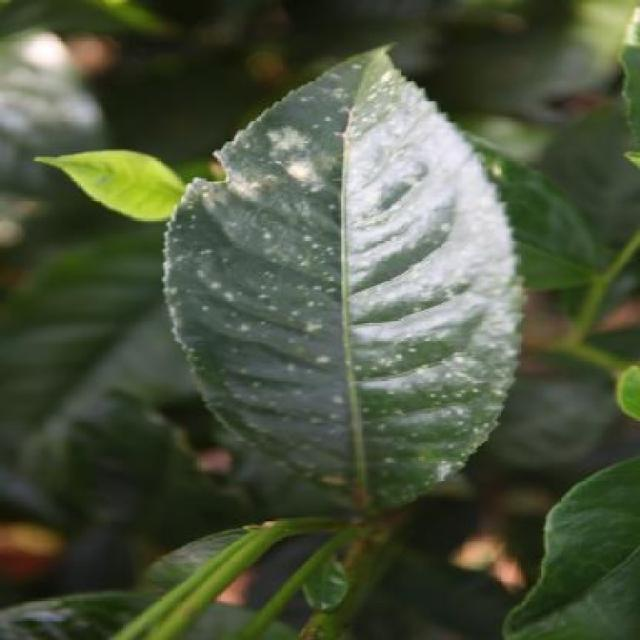White spot of tea: (164, 74, 550, 586)
